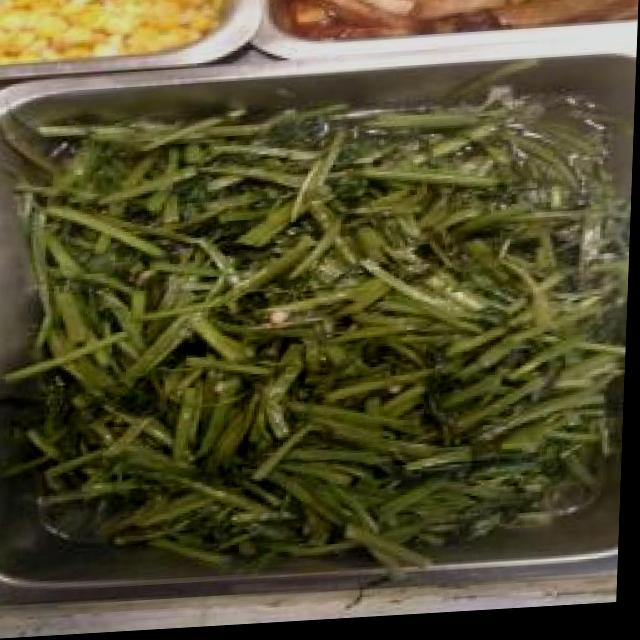water_spinach: (26, 94, 612, 584)
